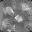people: (3, 6, 15, 16), (2, 18, 11, 27), (15, 14, 23, 22)
